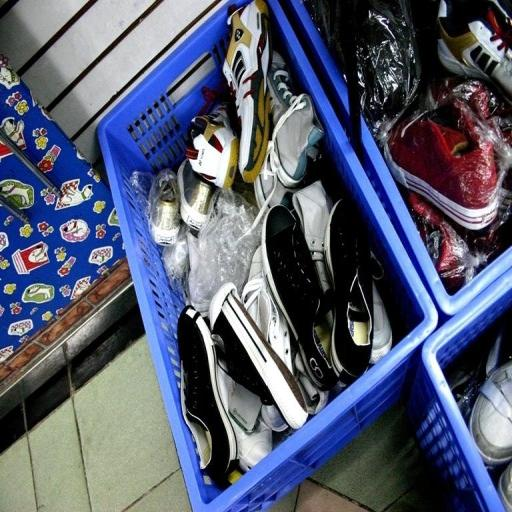shoe: (384, 98, 499, 230), (209, 283, 308, 429), (262, 205, 338, 390), (177, 306, 237, 487), (241, 246, 293, 432), (325, 197, 373, 384), (223, 0, 271, 183), (267, 50, 324, 188), (437, 0, 512, 101), (218, 364, 288, 472), (405, 192, 478, 293), (240, 246, 292, 372), (292, 180, 333, 293), (186, 103, 240, 188), (469, 361, 512, 466), (177, 158, 216, 231), (148, 169, 182, 246), (294, 352, 329, 415), (369, 280, 393, 365), (254, 169, 295, 209), (261, 405, 289, 432), (497, 462, 512, 512)
